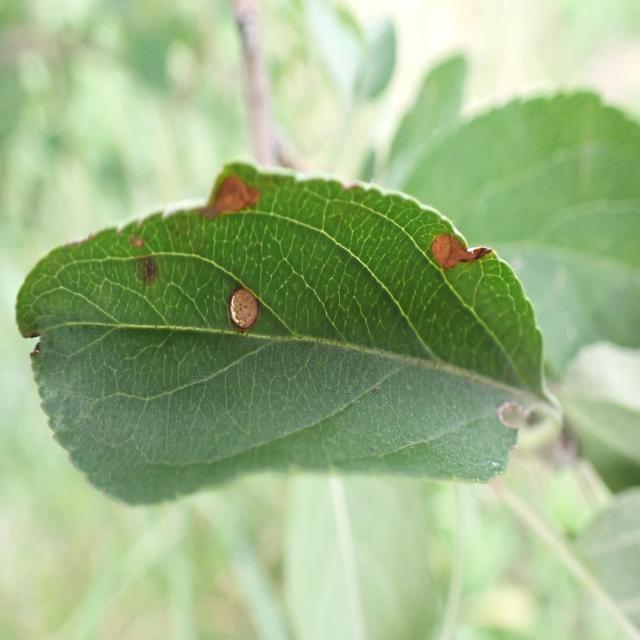Black Rot: (204, 242, 304, 385), (399, 208, 498, 307), (187, 144, 273, 240), (483, 374, 575, 458), (123, 217, 167, 319)
